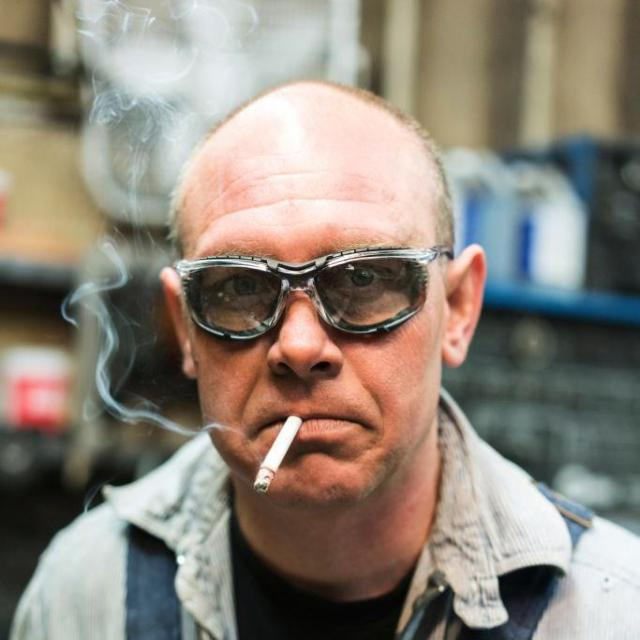smoke: (226, 396, 319, 502)
